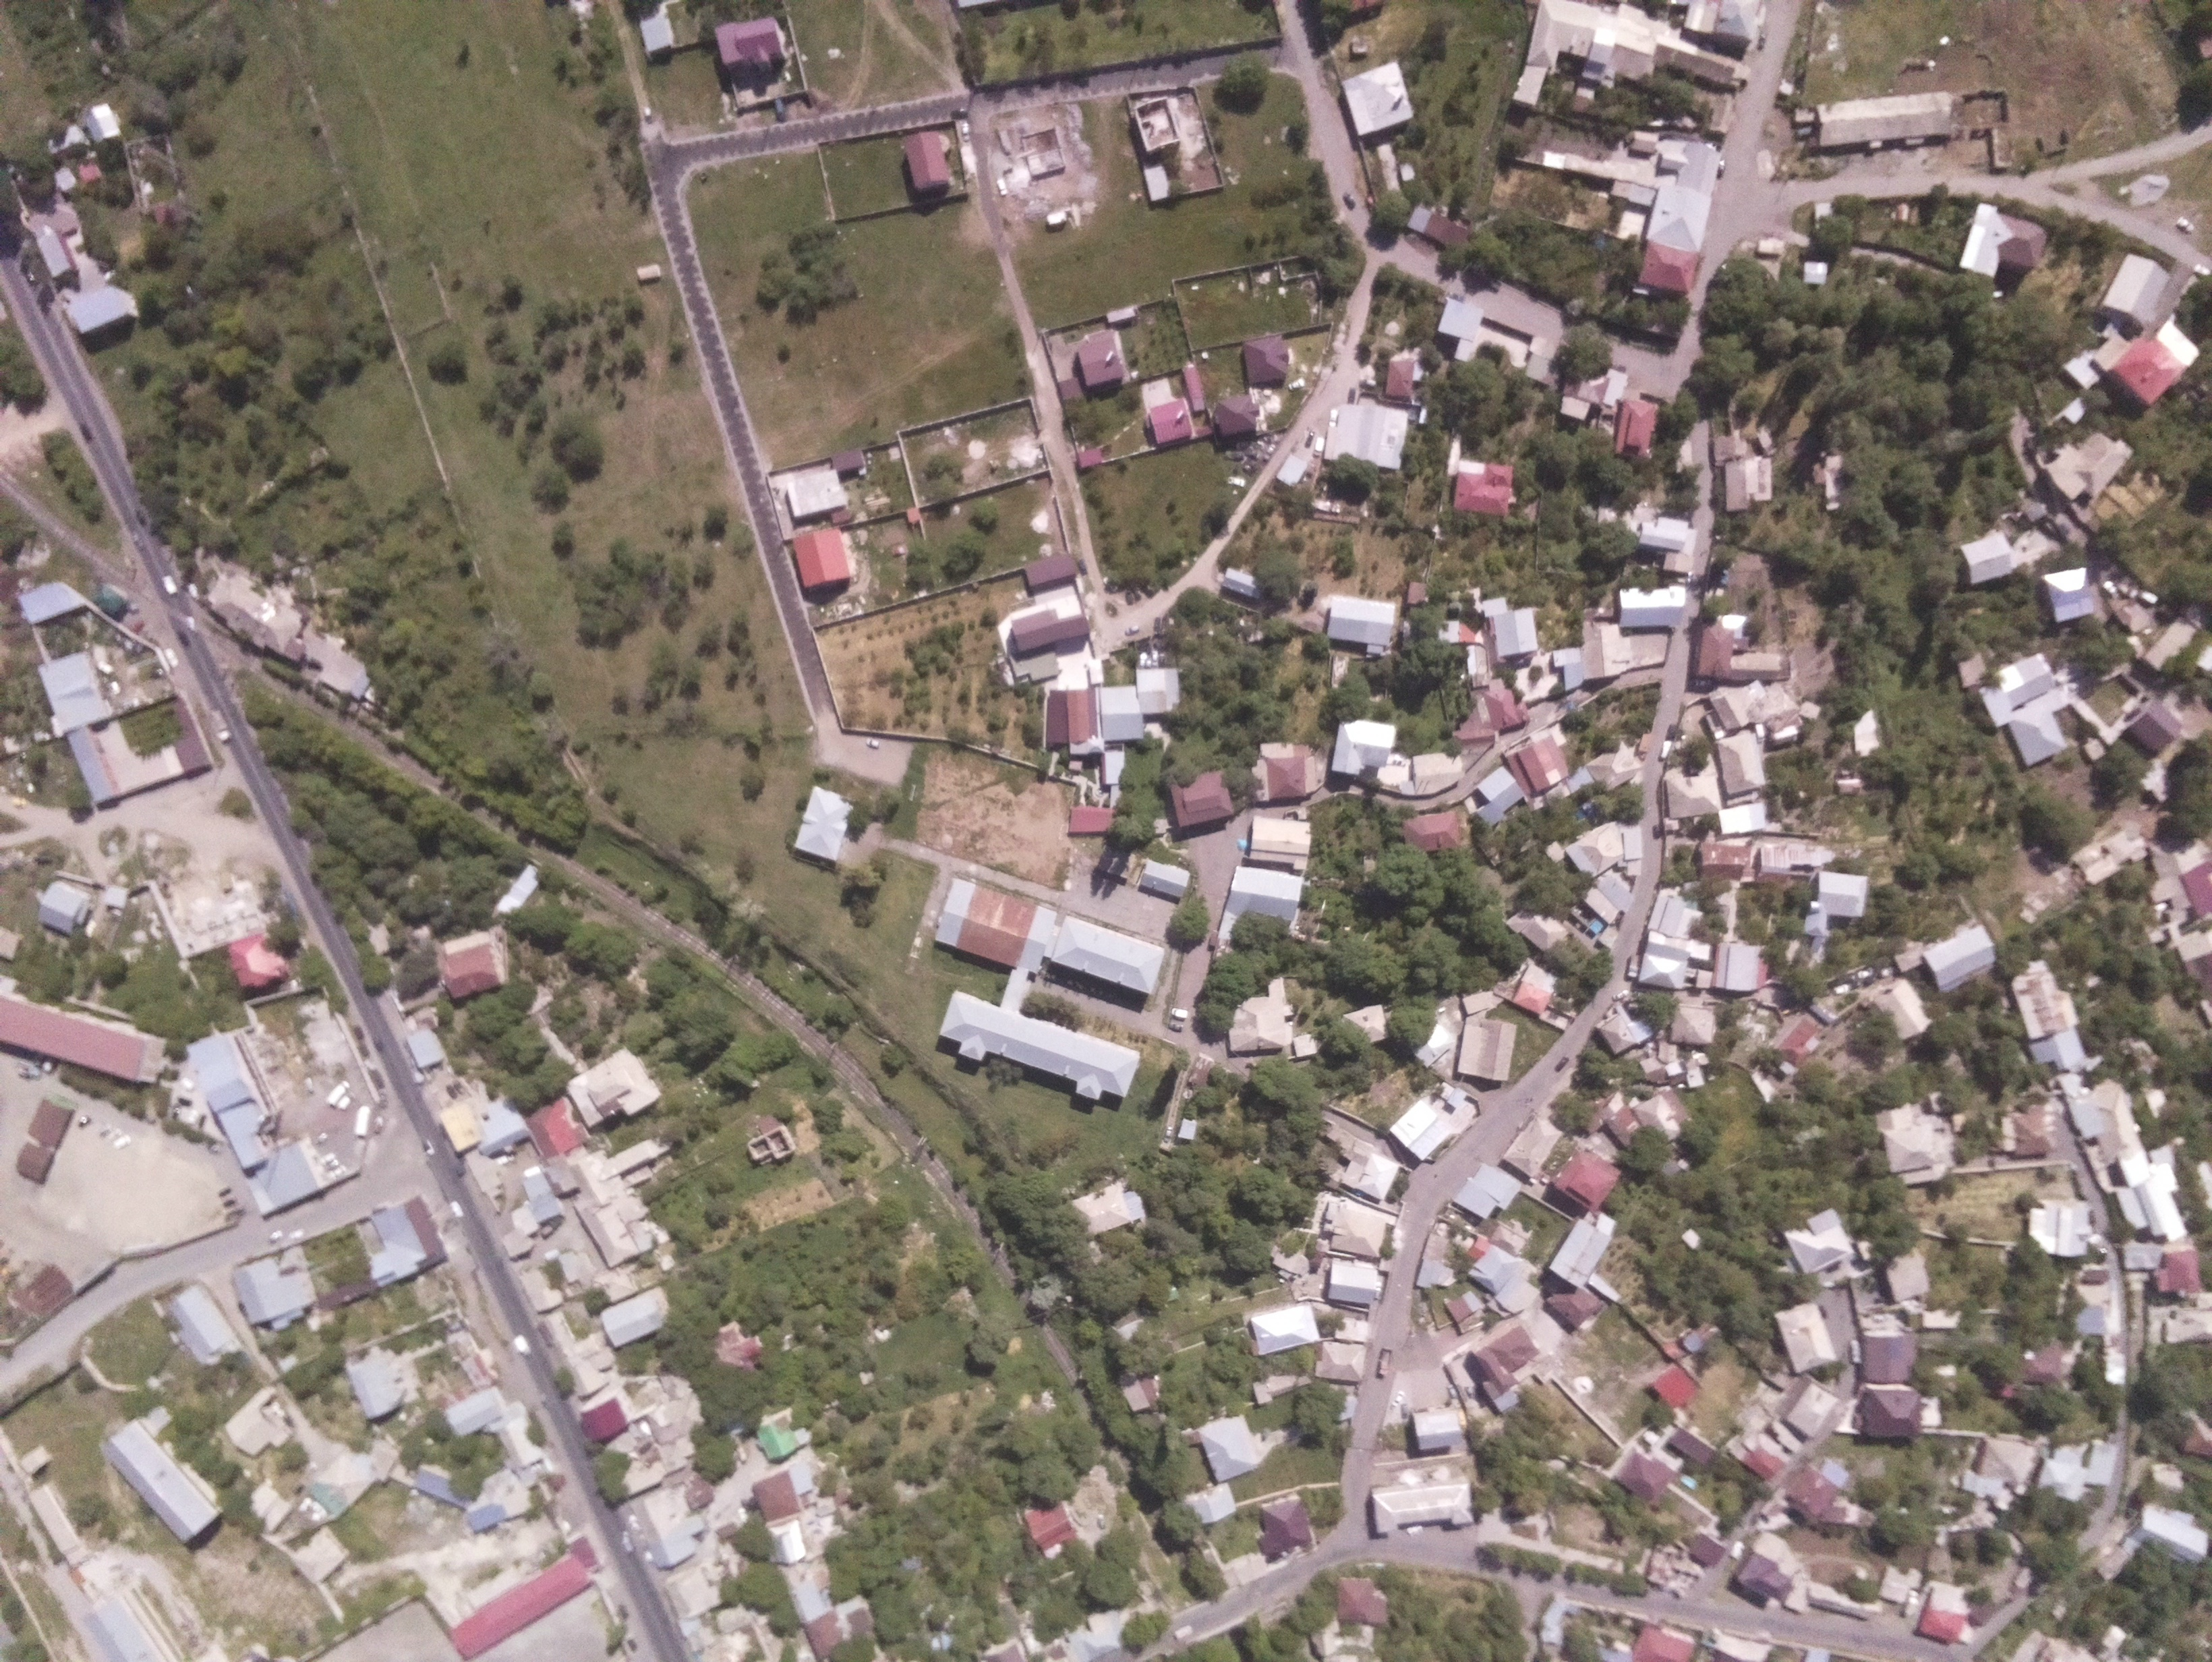car: (323, 1077, 349, 1109), (2172, 215, 2198, 237), (1337, 189, 1360, 213), (1308, 433, 1329, 459), (1285, 374, 1308, 396), (1608, 985, 1632, 1004), (1753, 721, 1770, 747), (1713, 157, 1730, 183), (960, 117, 976, 145), (1550, 1053, 1571, 1074), (993, 176, 1013, 199), (1163, 1018, 1187, 1035), (1121, 620, 1145, 637), (1166, 1006, 1192, 1021), (862, 733, 882, 752), (1299, 429, 1318, 449), (1325, 407, 1341, 429), (1390, 1386, 1405, 1405), (1149, 648, 1161, 669)
truck: (1699, 711, 1725, 742), (1372, 1348, 1395, 1383), (1624, 953, 1643, 981)
